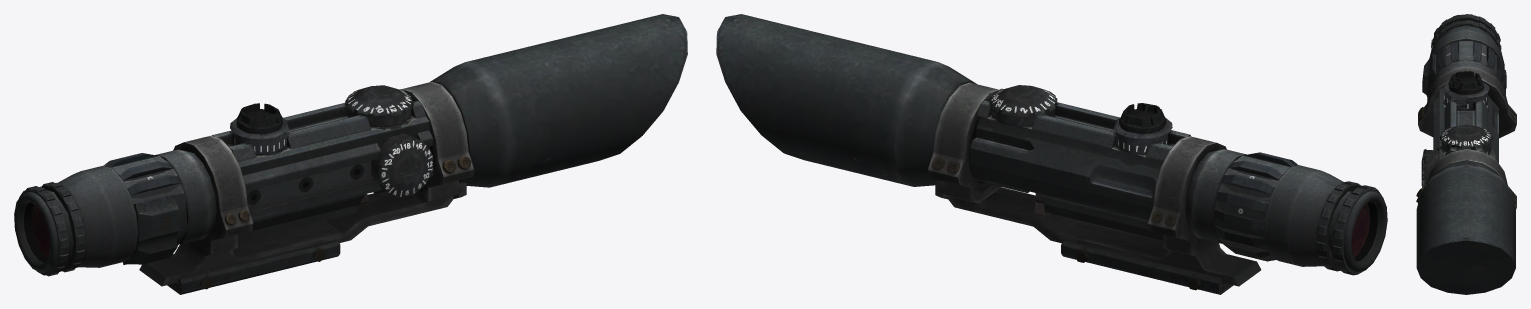
Rendered from t6_wpn_sniper_svu_scope_view_lod0.glb.
The picture shows the model from 3 angles, left to right: view 1: azimuth 30°, elevation 25°; view 2: azimuth 150°, elevation 25°; view 3: azimuth 270°, elevation 25°; orthographic projection. The views are drawn at different scales.
Visible parts, largest first — view 1: surf0, surf2, surf1; view 2: surf0, surf2, surf1; view 3: surf0, surf2.
Part boxes in pixels (x1,y1,x2,y2): surf0: [14, 14, 687, 294]; surf2: [19, 81, 474, 294]; surf1: [31, 204, 50, 258]; surf0: [716, 14, 1387, 294]; surf2: [927, 82, 1381, 294]; surf1: [1351, 204, 1370, 257]; surf0: [1416, 25, 1516, 294]; surf2: [1418, 14, 1516, 207].
Size of the model in its own units: 12.27 by 2.76 by 2.15.
